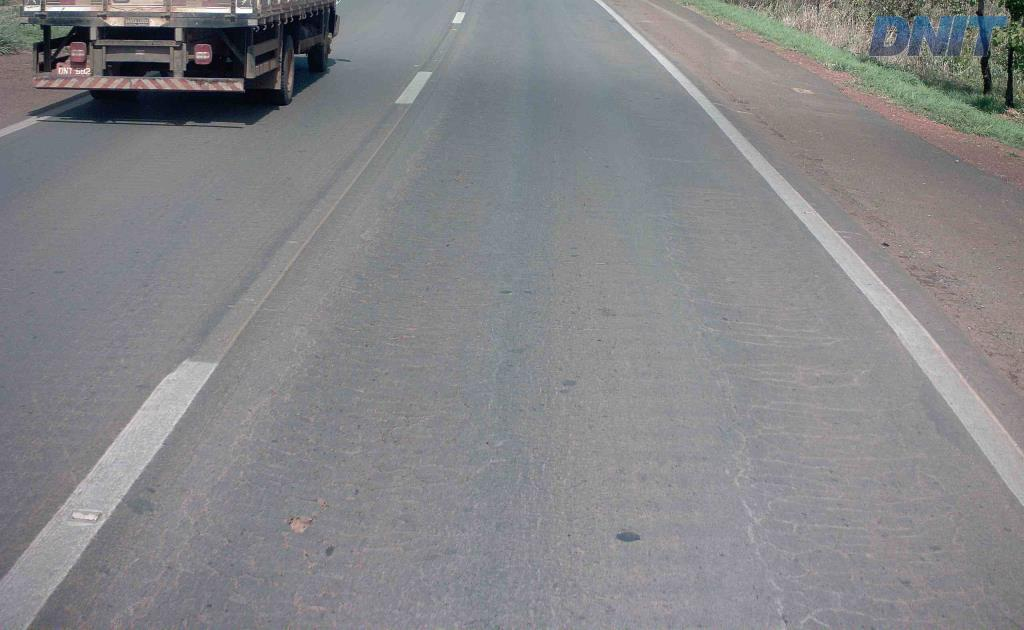pothole: (282, 505, 309, 533)
